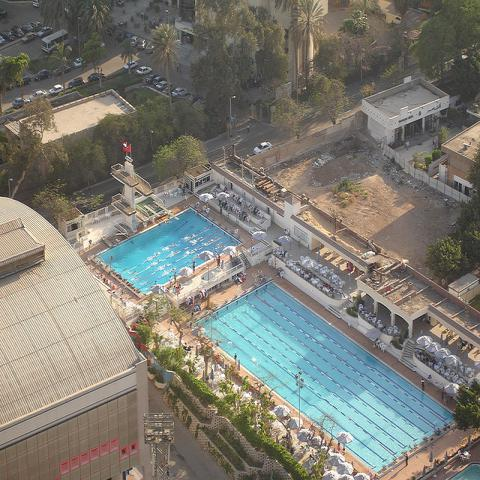bus: (41, 28, 70, 55)
car: (0, 26, 148, 85), (34, 67, 52, 85), (253, 142, 274, 154), (68, 76, 87, 89), (29, 90, 47, 102), (12, 97, 30, 109), (171, 87, 189, 98), (49, 84, 64, 96), (136, 66, 153, 76), (22, 32, 36, 44), (156, 80, 172, 90), (145, 73, 160, 83), (146, 42, 157, 54), (154, 75, 165, 86)
